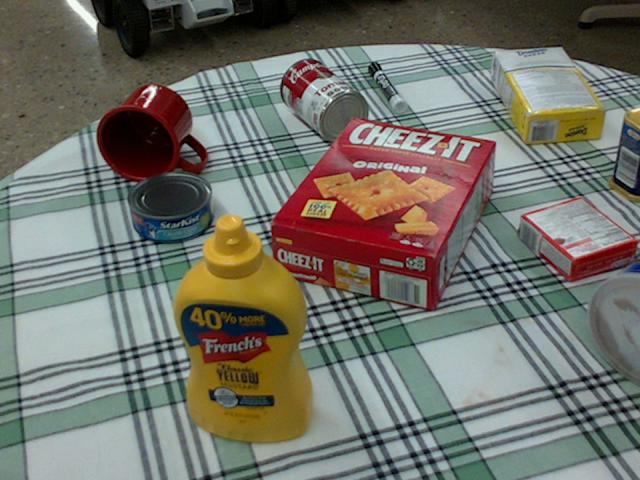cracker_box: (269, 118, 499, 310)
gelatin_box: (518, 196, 635, 278)
large_marker: (368, 62, 405, 111)
master_chef_can: (590, 257, 639, 385)
mug: (96, 84, 205, 182)
mustard_bottle: (172, 213, 314, 441)
potted_meat_can: (607, 106, 639, 201)
sugar_box: (491, 48, 607, 144)
tomato_soup_can: (279, 57, 368, 140)
tuna_fish_can: (125, 171, 212, 241)
